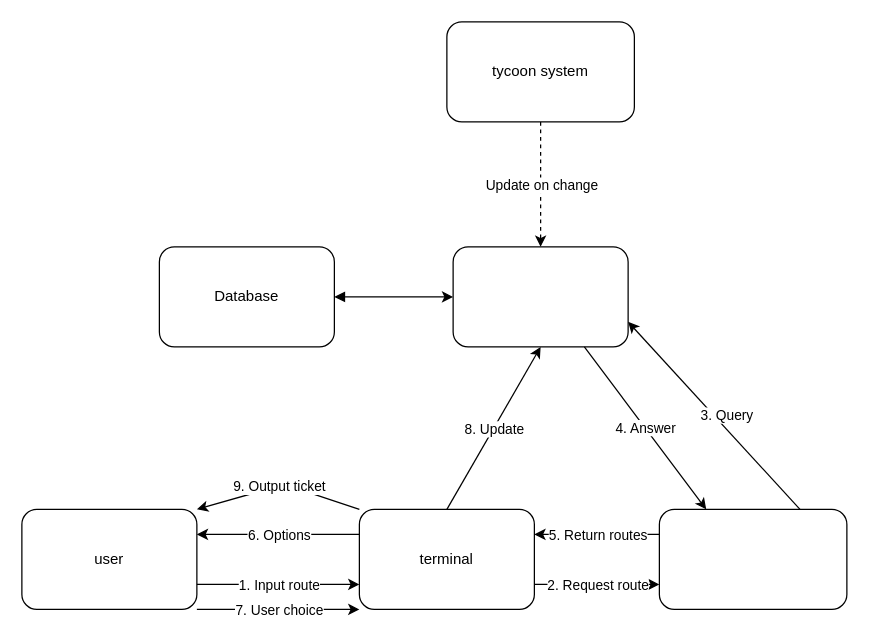
Image size: 869x641. Some labels were removed from this diagram. The centre of each missing label's shape, as x and y in pixels:
"Data management system" goes at point 540,296.
"route optimizer" goes at point 752,558.
